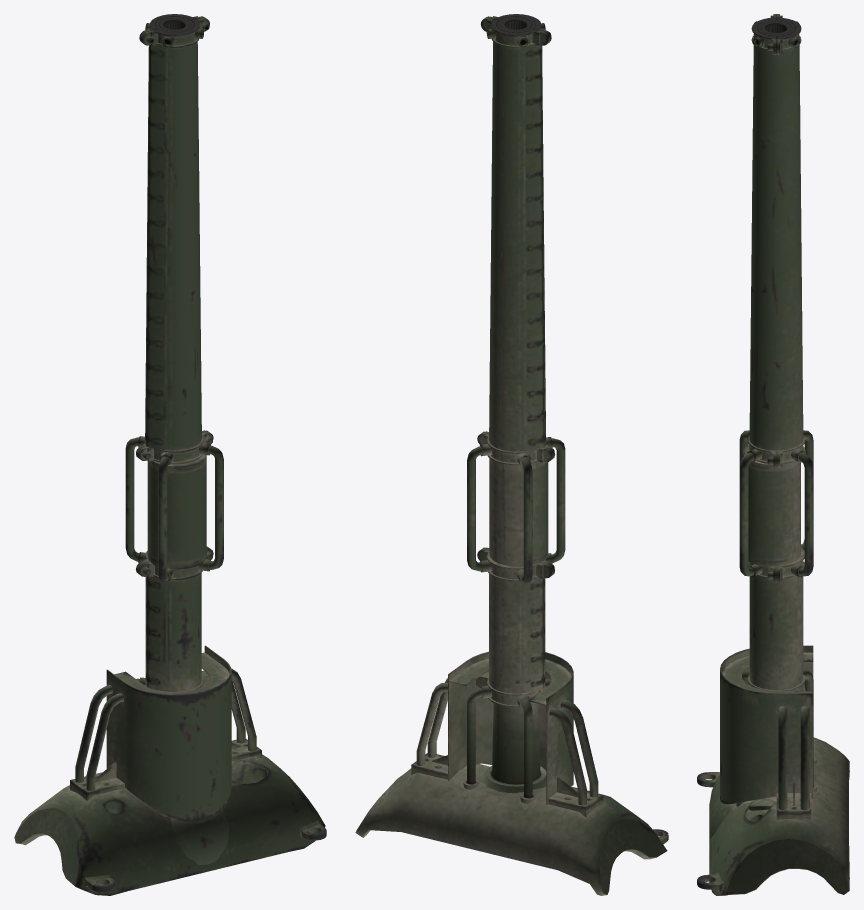
Rendered from Gun_01.glb.
The picture shows the model from 3 angles, left to right: view 1: azimuth 30°, elevation 25°; view 2: azimuth 150°, elevation 25°; view 3: azimuth 270°, elevation 25°; orthographic projection.
Parts seen in each view (by area): view 1: set_0_group_0; view 2: set_0_group_0; view 3: set_0_group_0.
Part boxes in pixels (x1,y1,x2,y2): set_0_group_0: (14, 14, 326, 895); set_0_group_0: (355, 14, 668, 895); set_0_group_0: (697, 14, 849, 895).
Size of the model in its own units: 1.32 by 4.17 by 0.7054.
1 material, 1 textured.
